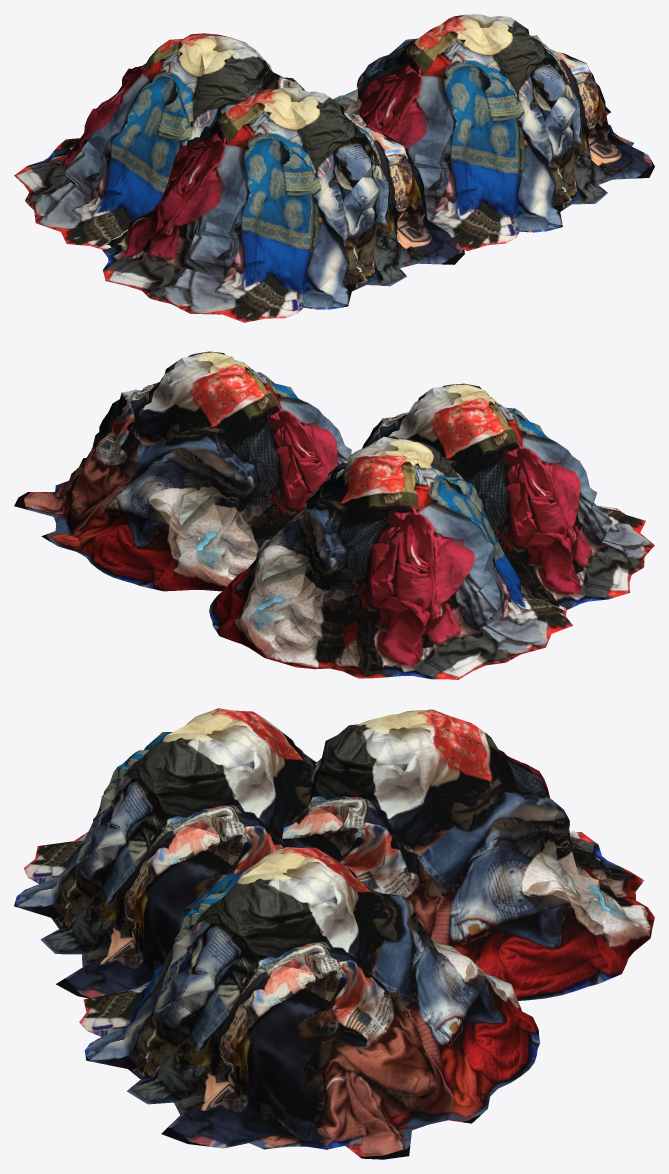
The model's file is clothes.gltf.
3 renders of one model, top to bottom at view 1: azimuth 30°, elevation 25°; view 2: azimuth 150°, elevation 25°; view 3: azimuth 270°, elevation 25°, orthographic. The views are drawn at different scales.
Parts seen in each view (by area): view 1: Sketchfab Model.010, Sketchfab Model.008, Sketchfab Model.009; view 2: Sketchfab Model.009, Sketchfab Model.008, Sketchfab Model.010; view 3: Sketchfab Model.008, Sketchfab Model.009, Sketchfab Model.010.
Part boxes in pixels (x1,y1,x2,y2): Sketchfab Model.010: [102, 88, 464, 322]; Sketchfab Model.008: [333, 14, 654, 250]; Sketchfab Model.009: [14, 33, 304, 249]; Sketchfab Model.009: [209, 436, 572, 679]; Sketchfab Model.008: [14, 351, 351, 591]; Sketchfab Model.010: [362, 383, 654, 609]; Sketchfab Model.008: [79, 847, 540, 1159]; Sketchfab Model.009: [282, 709, 654, 1000]; Sketchfab Model.010: [14, 708, 316, 998].
Size of the model in its own units: 3.6 by 0.9707 by 2.77.
3 materials, 3 textured.
